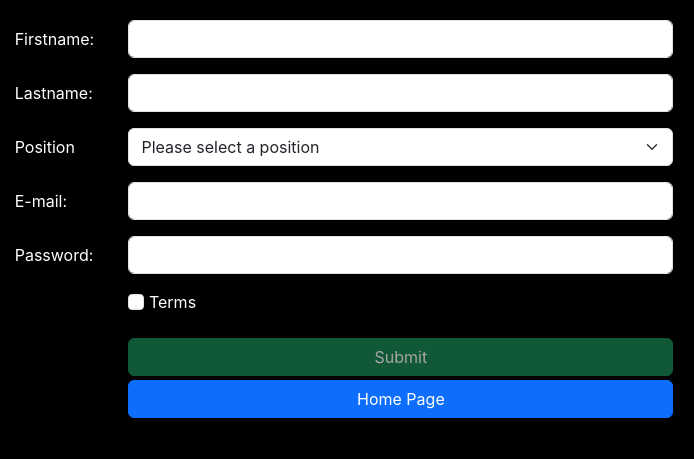
Form Tests › checks first name input errors
This screenshot has width=694, height=459.
Type "aa" into the field with test id "input-first-name". click: (401, 39)
box: [128, 20, 673, 58]
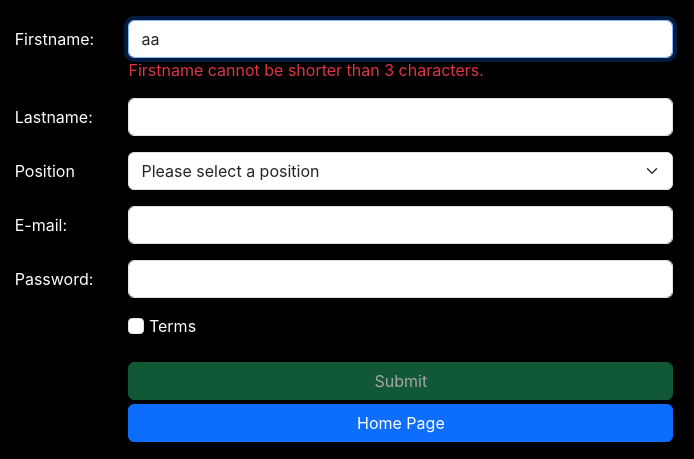
Now the number of elements with test id "error" is 1, box [128, 60, 483, 80]
Now the text with test id "error" reads "Firstname cannot be shorter than 3 characters.", box [128, 60, 483, 80]
Clear the field with test id "input-first-name". click: (401, 39)
box: [128, 20, 673, 58]
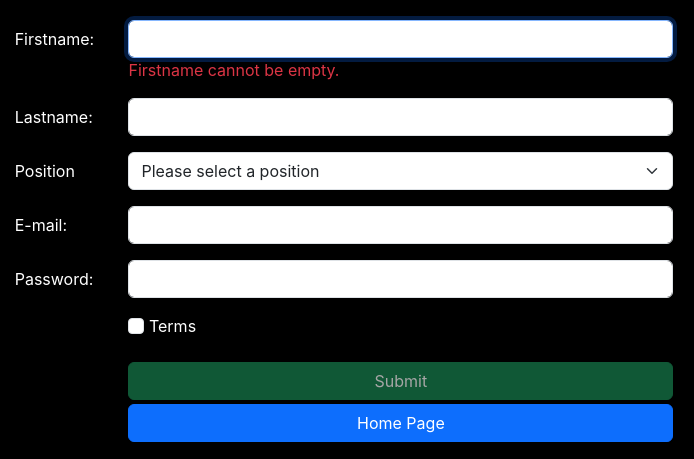
Now the number of elements with test id "error" is 1, box [128, 60, 339, 80]
Now the text with test id "error" reads "Firstname cannot be empty.", box [128, 60, 339, 80]
